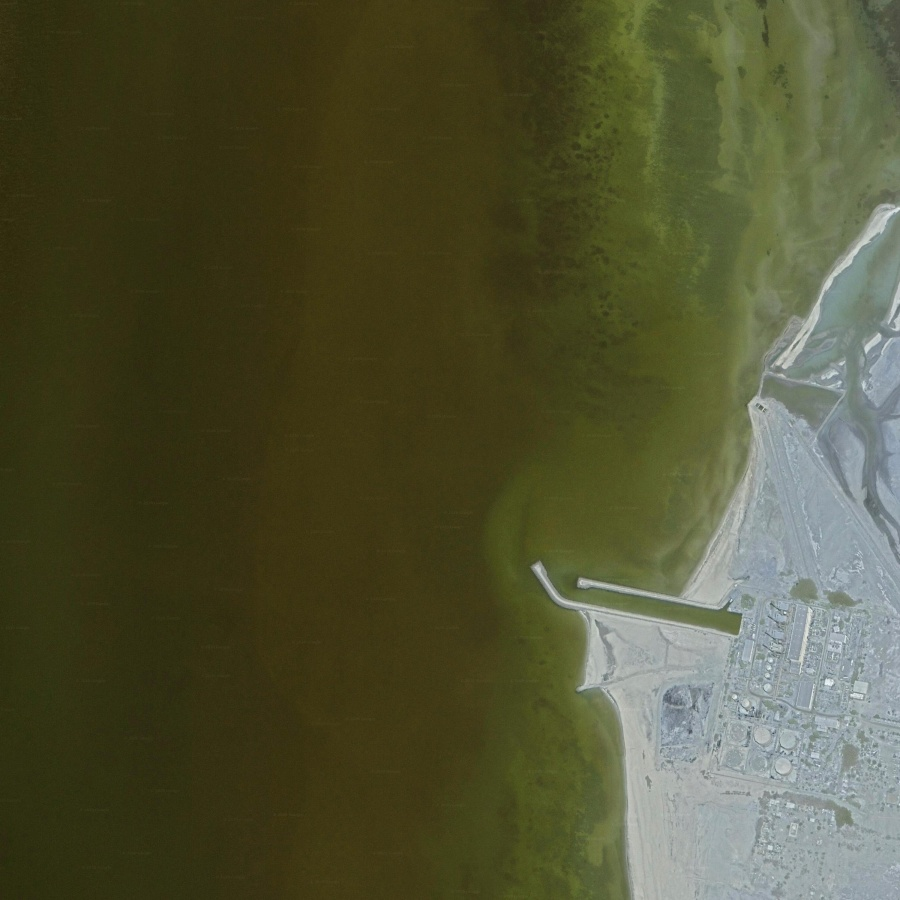PowerPlant: (649, 590, 877, 793)
